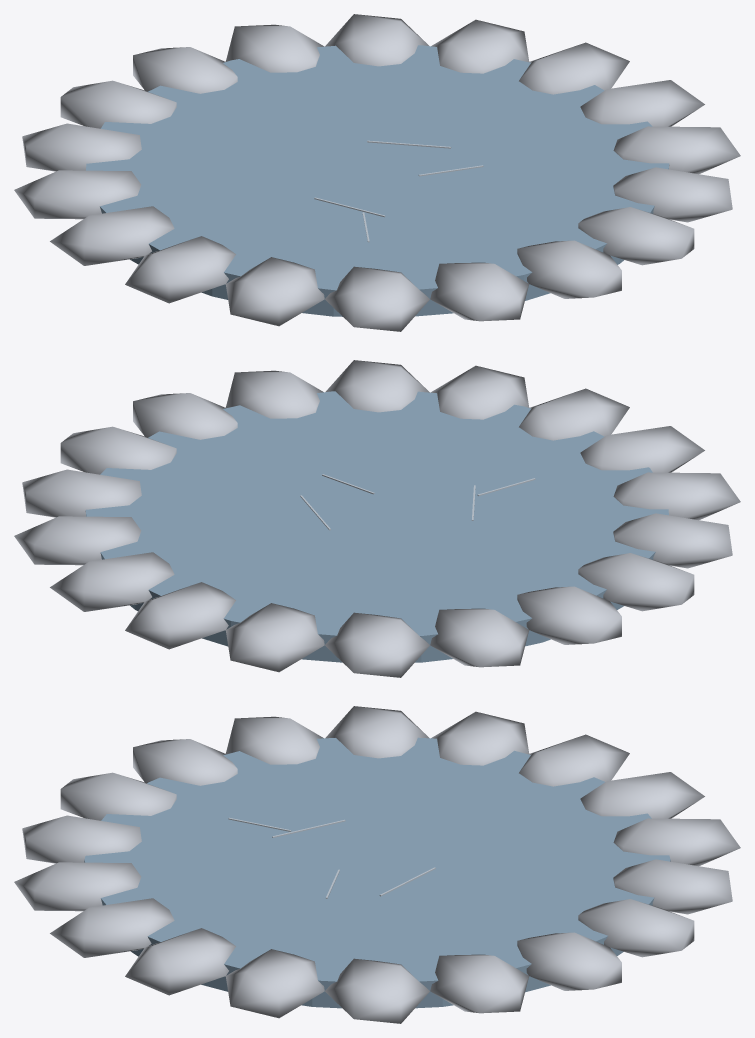
The model's file is frozen_pond.glb.
3 views of the same model, one above another, from view 1: azimuth 30°, elevation 25°; view 2: azimuth 150°, elevation 25°; view 3: azimuth 270°, elevation 25° (orthographic).
Visible parts, largest first — view 1: frozen_pond; view 2: frozen_pond; view 3: frozen_pond.
Boxes of the visible parts, <box> form: frozen_pond: <box>14,14,740,331</box>; frozen_pond: <box>14,360,740,677</box>; frozen_pond: <box>14,706,740,1023</box>.
Size of the model in its own units: 2.49 by 0.1412 by 2.48.
